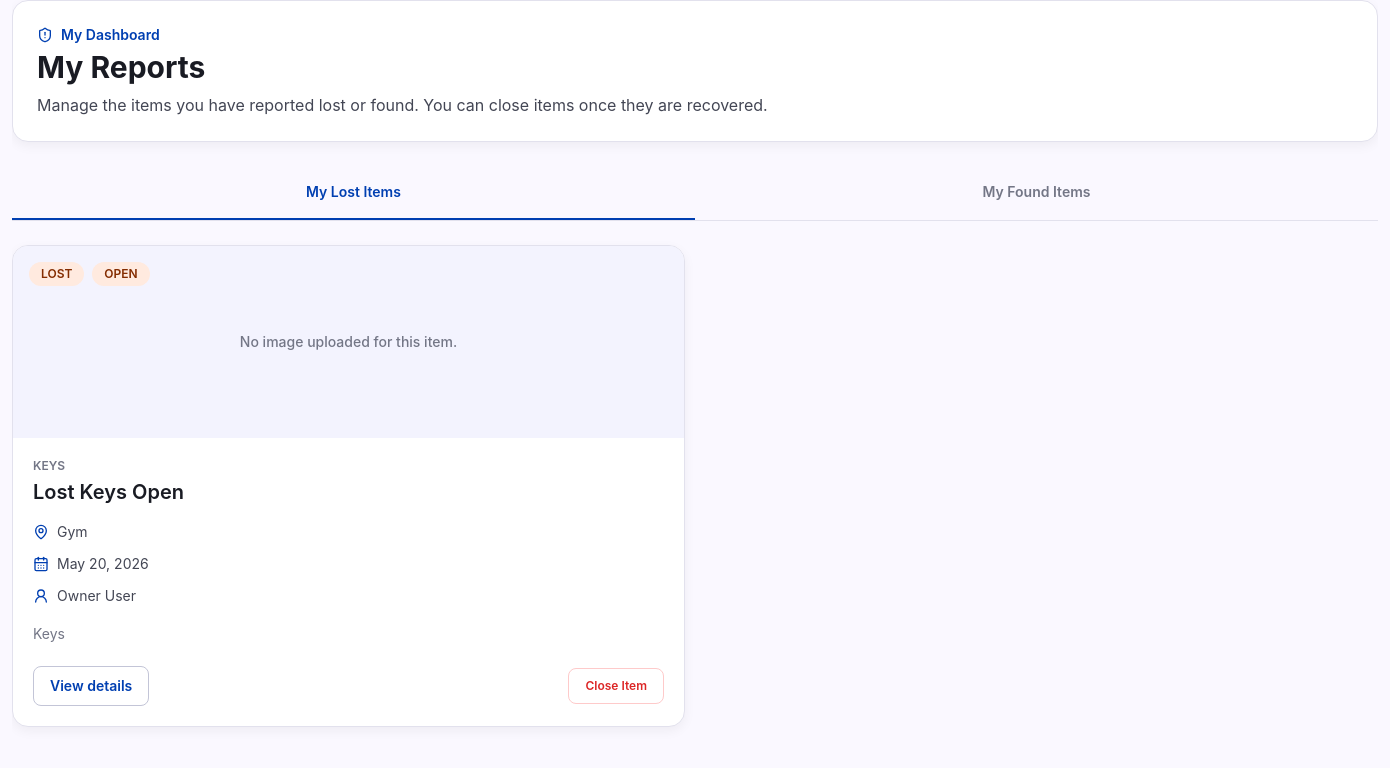
Test: MyItemsPage Tabs and Content › closing an item from the list updates its status chip to "Closed" immediately
The width and height of the screenshot is (1390, 768).
Click the button "Close Item". click: [616, 686]
box: [568,668,664,704]
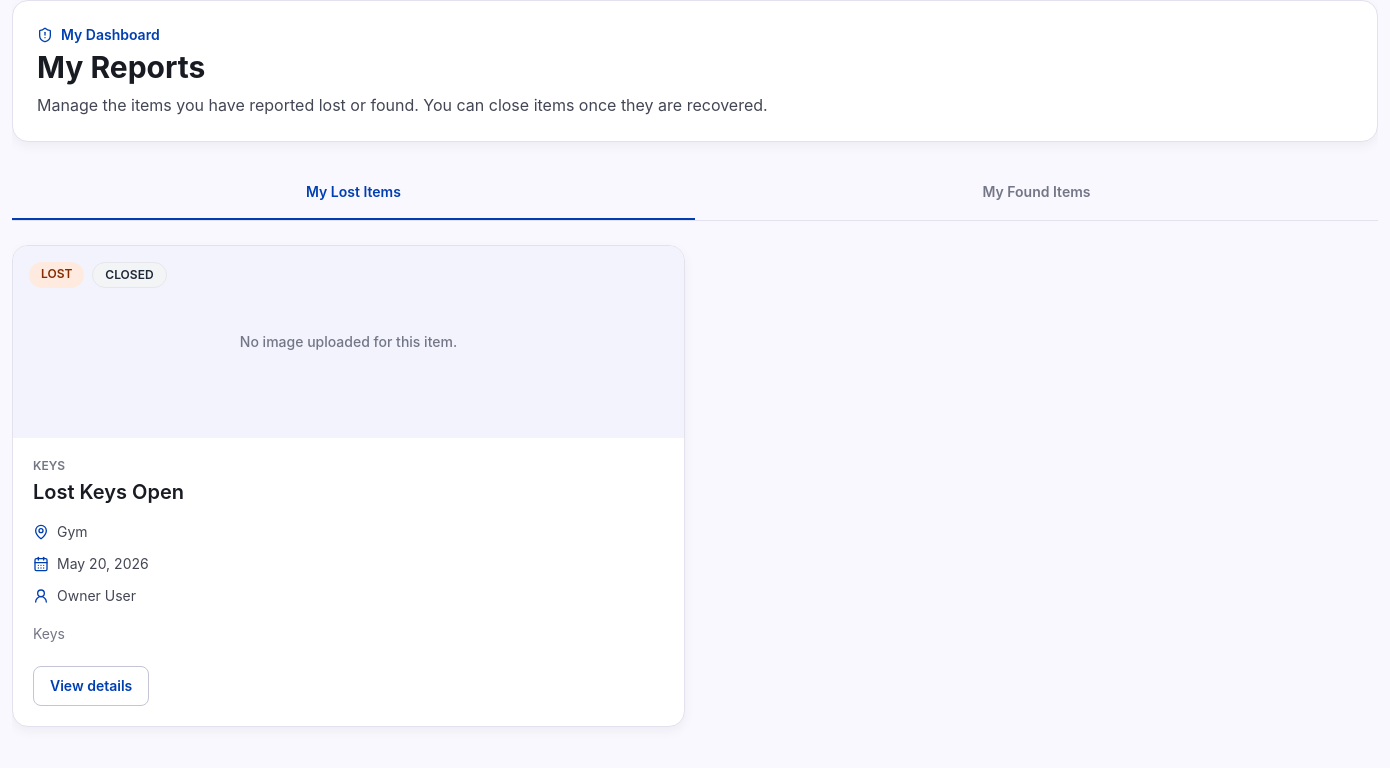
Expected: the text "closed" is shown, [92,262,167,288]
